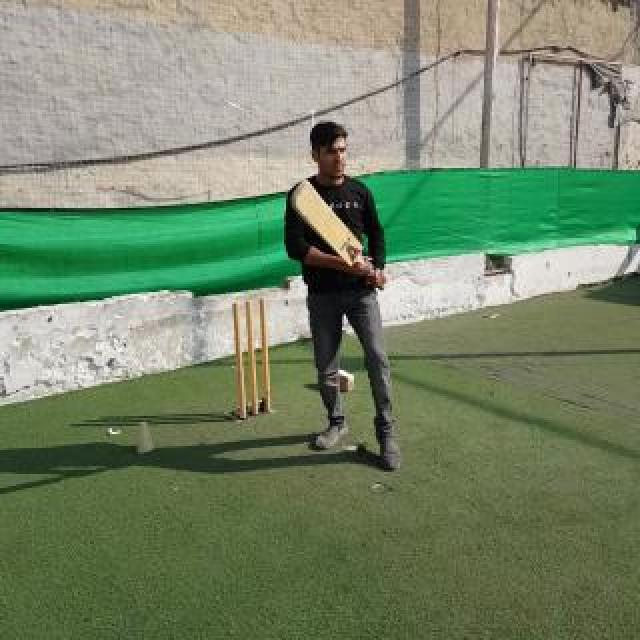bat: (290, 180, 386, 292)
